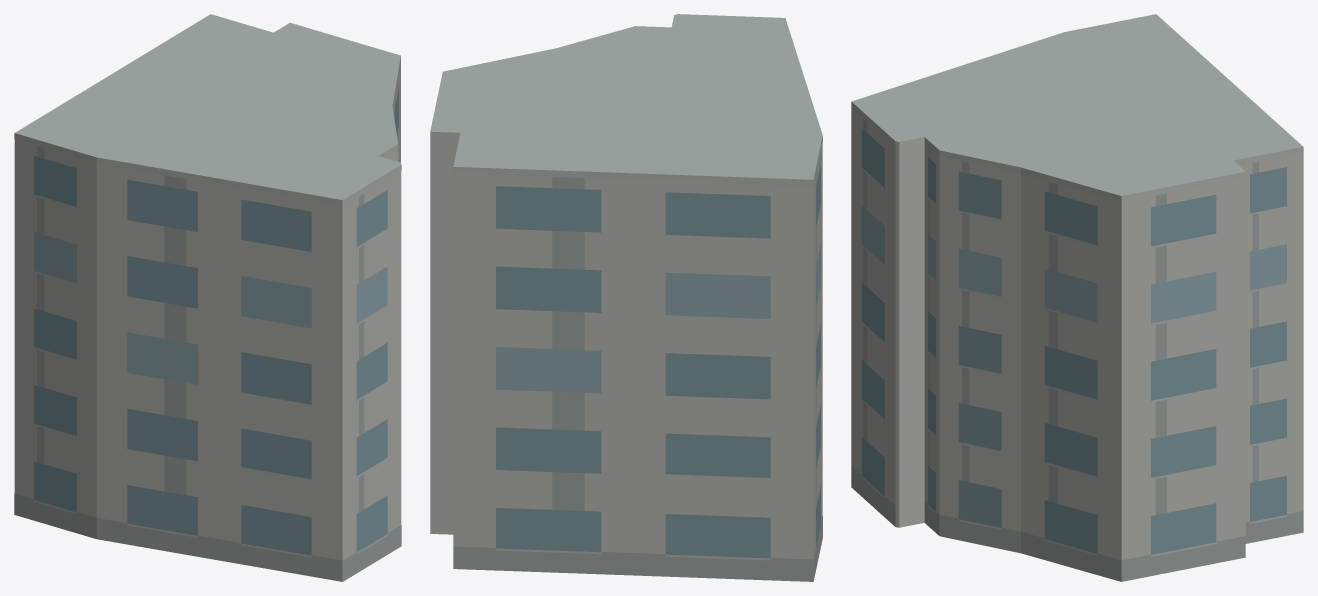
The model's file is survey-upis-32638951.glb.
The picture shows the model from 3 angles, left to right: view 1: azimuth 30°, elevation 25°; view 2: azimuth 150°, elevation 25°; view 3: azimuth 270°, elevation 25°; orthographic projection. The views are drawn at different scales.
Visible parts, largest first — view 1: survey-upis-32638951.tmp; view 2: survey-upis-32638951.tmp; view 3: survey-upis-32638951.tmp.
Boxes of the visible parts, bbox=[...] form: survey-upis-32638951.tmp: bbox=[14, 14, 401, 581]; survey-upis-32638951.tmp: bbox=[430, 14, 822, 581]; survey-upis-32638951.tmp: bbox=[851, 14, 1303, 581].
Size of the model in its own units: 14.78 by 14.6 by 15.51.
